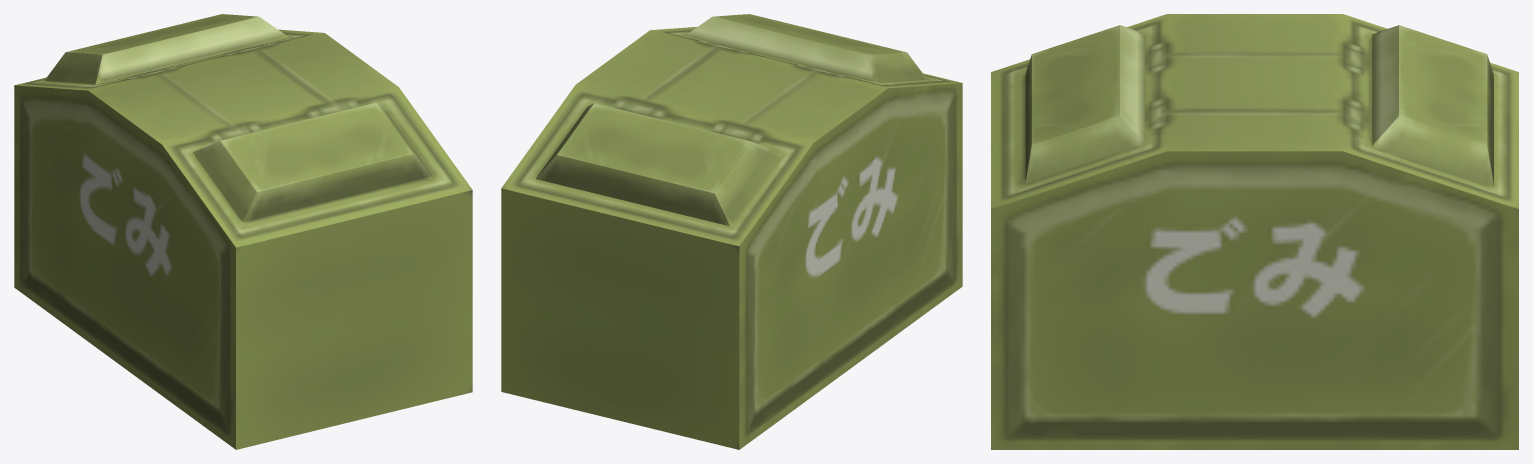
Rendered from trash.FBX.
The picture shows the model from 3 angles, left to right: view 1: azimuth 30°, elevation 25°; view 2: azimuth 150°, elevation 25°; view 3: azimuth 270°, elevation 25°; orthographic projection. The views are drawn at different scales.
Visible parts, largest first — view 1: Box348, Box349, Box350; view 2: Box348, Box350, Box349; view 3: Box348, Box350, Box349.
Part boxes in pixels (x1,y1,x2,y2): Box348: (14, 29, 472, 449); Box349: (192, 102, 432, 222); Box350: (44, 14, 288, 84); Box348: (501, 27, 962, 449); Box350: (536, 103, 781, 226); Box349: (685, 14, 926, 82); Box348: (991, 14, 1518, 449); Box350: (1371, 25, 1493, 186); Box349: (1025, 25, 1144, 183).
Size of the model in its own units: 625 by 657 by 1015.
